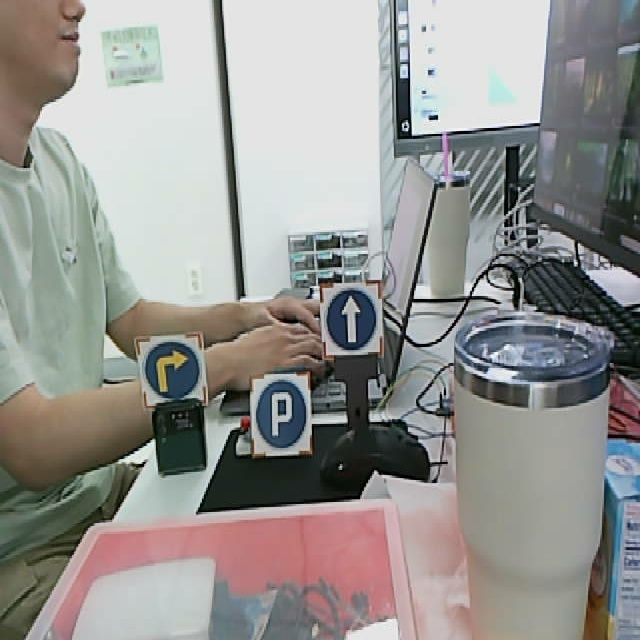parking: (247, 371, 313, 457)
right: (133, 332, 208, 408)
straight: (319, 280, 385, 356)
